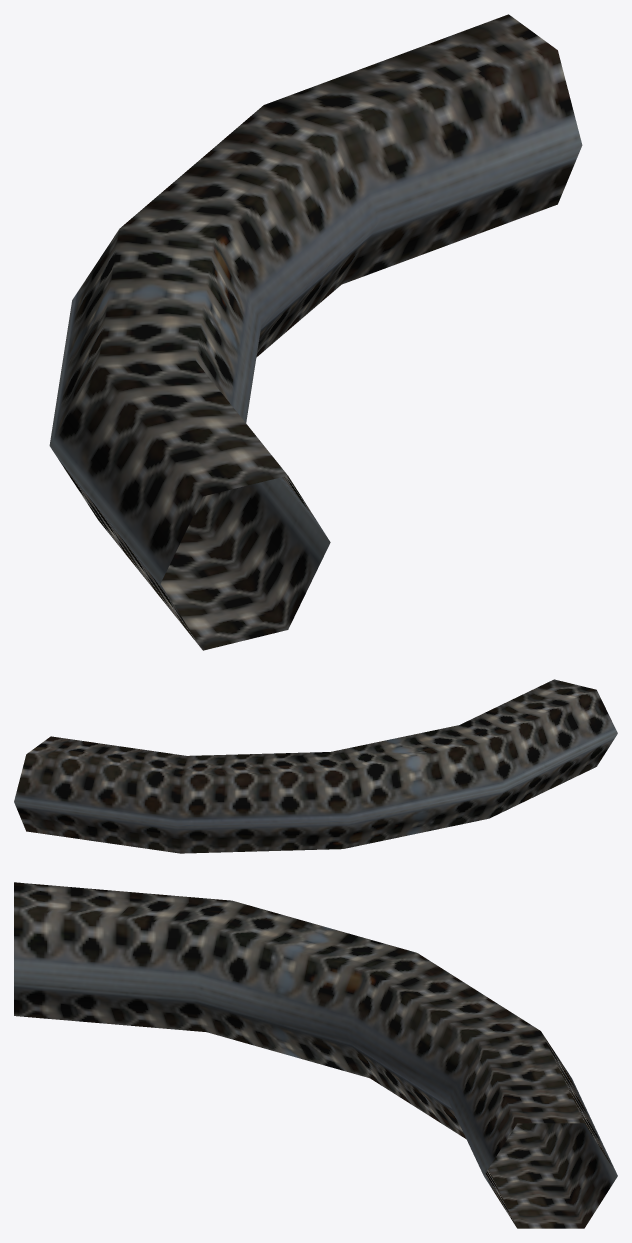
Rendered from small_mesh_8_elbow_hz.fbx.
The picture shows the model from 3 angles, top to bottom: view 1: azimuth 30°, elevation 25°; view 2: azimuth 150°, elevation 25°; view 3: azimuth 270°, elevation 25°; orthographic projection. The views are drawn at different scales.
Parts seen in each view (by area): view 1: allPipes:pTorus6; view 2: allPipes:pTorus6; view 3: allPipes:pTorus6.
Part boxes in pixels (left/top/right/bottom): allPipes:pTorus6: left=49, top=14, right=582, bottom=650; allPipes:pTorus6: left=14, top=679, right=617, bottom=853; allPipes:pTorus6: left=14, top=882, right=617, bottom=1228.
Bounding box in the file's own units: 1.13 × 0.2165 × 1.12.
